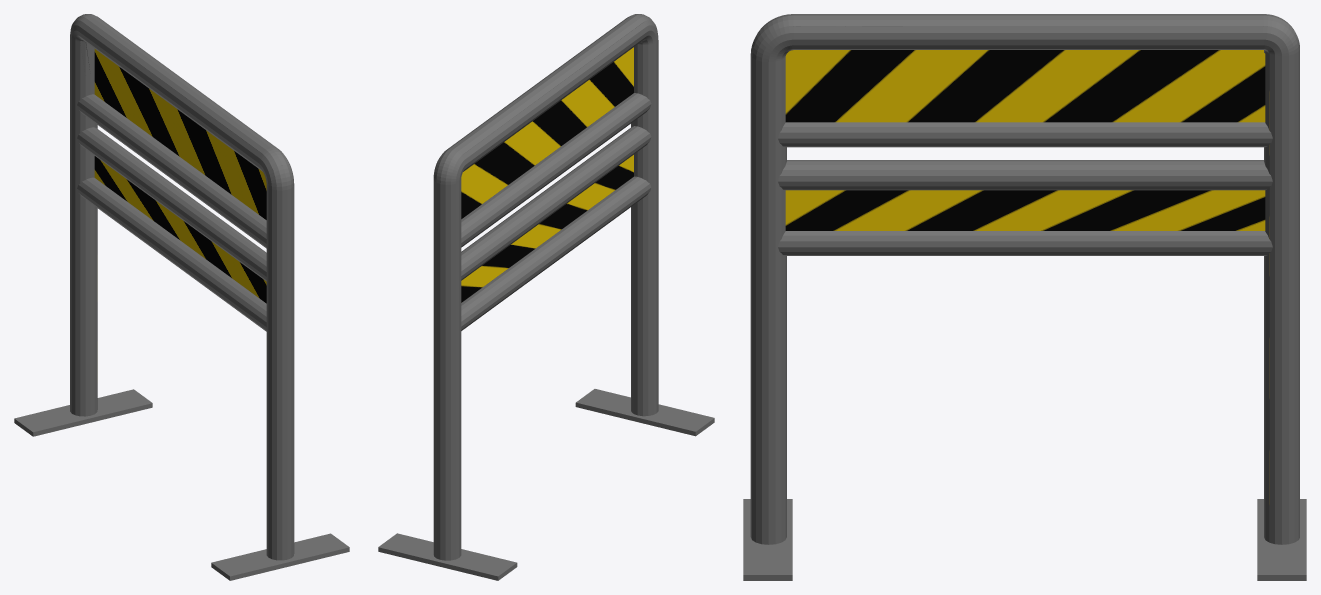
Rendered from barrier.fbx.
3 renders of one model, left to right at view 1: azimuth 30°, elevation 25°; view 2: azimuth 150°, elevation 25°; view 3: azimuth 270°, elevation 25°, orthographic. The views are drawn at different scales.
Parts seen in each view (by area): view 1: barrier; view 2: barrier; view 3: barrier.
Boxes of the visible parts, bbox=[...] form: barrier: bbox=[14, 14, 349, 580]; barrier: bbox=[378, 14, 714, 580]; barrier: bbox=[743, 14, 1306, 580].
Bounding box in the file's own units: 997 × 3218 × 3116.
Materials: 1 (1 with a texture image).
